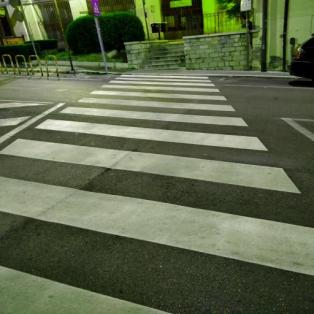Paso de Cebra: (32, 106, 272, 155), (107, 77, 220, 87)
